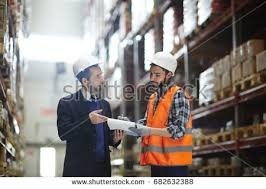helmet: (151, 49, 180, 73), (70, 55, 103, 75)
person with full safety: (131, 46, 199, 174)
person with partial safety: (56, 51, 114, 175)
safety vest: (145, 89, 192, 165)
